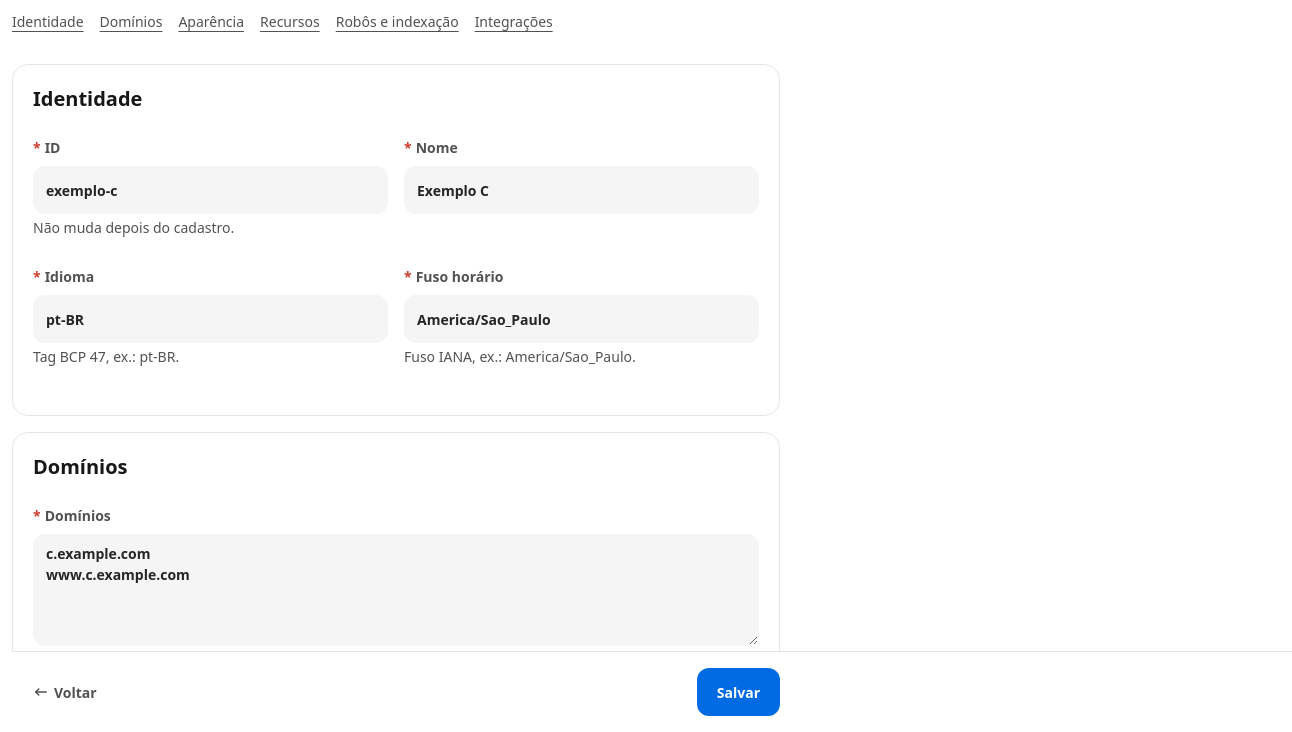
it: formulário da configuração do site › salvar sem mudar envia a mesma configuração, sem os textos institucionais
The width and height of the screenshot is (1292, 732).
Click the button "Salvar" at (738, 692), box [697, 668, 780, 716]
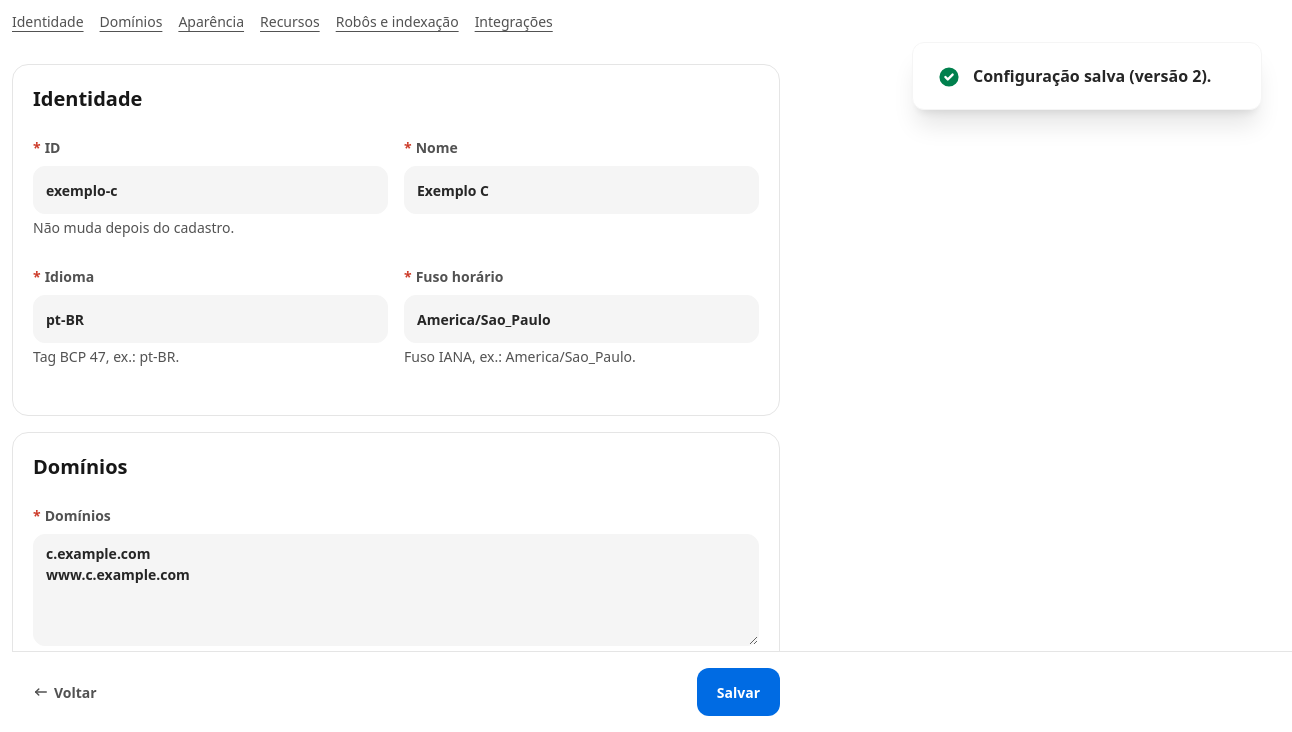
Result: the message reads "Configuração salva (versão 2)." at [973, 65, 1211, 87]
Result: the element with class "notification" is shown at [912, 42, 1262, 110]
